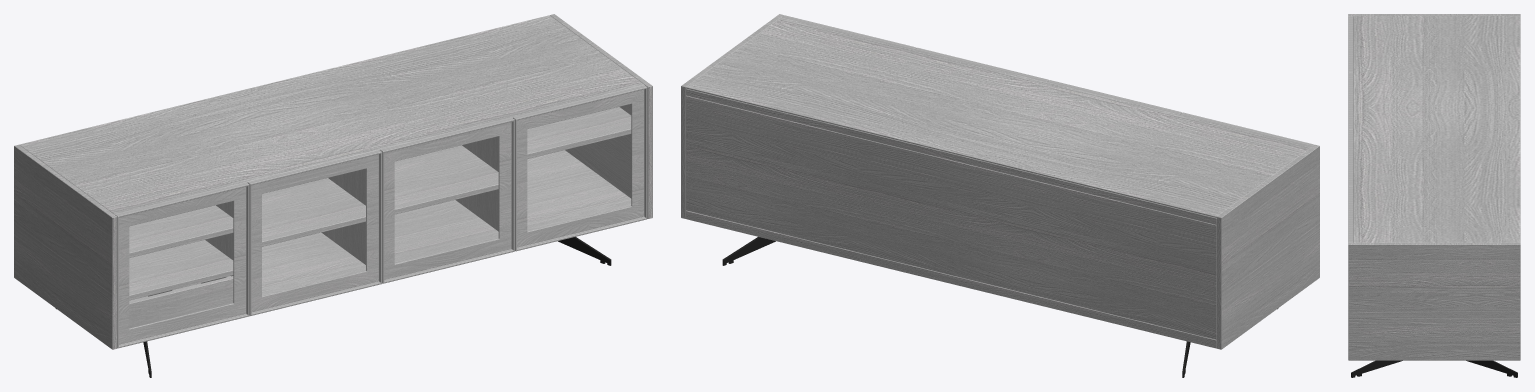
Rendered from TVTable1.fbx.
The picture shows the model from 3 angles, left to right: view 1: azimuth 30°, elevation 25°; view 2: azimuth 150°, elevation 25°; view 3: azimuth 270°, elevation 25°; orthographic projection. The views are drawn at different scales.
Parts seen in each view (by area): view 1: TVTable1; view 2: TVTable1; view 3: TVTable1.
Boxes of the visible parts, x1,y1,x2,y2 form: TVTable1: (14,14,652,377); TVTable1: (681,14,1319,377); TVTable1: (1348,14,1520,377).
Bounding box in the file's own units: 165 × 50.04 × 52.07.
3 materials, 2 textured.
